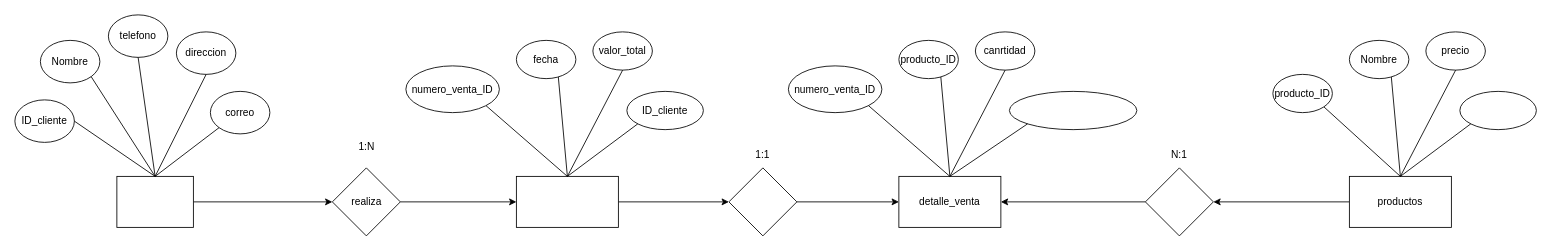
This 1551x251 diagram has some shape labels left out. The centre of each missing label's shape, as x and y in pixels:
cant_inentario: point (1497, 110)
cliente: point (154, 201)
contiene: point (762, 201)
incluido en:: point (1179, 201)
precio_unitario_historico: point (1073, 110)
venta: point (567, 201)
